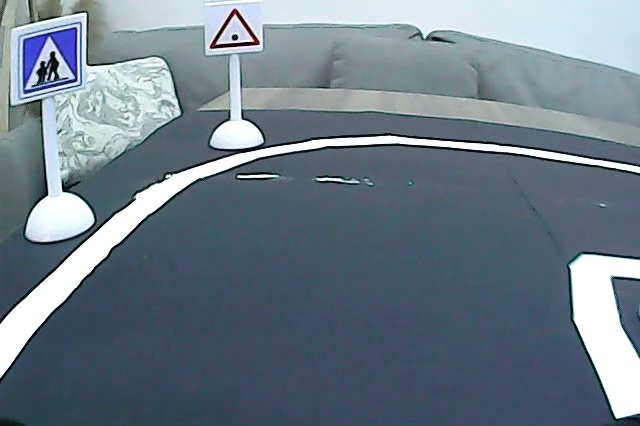green light: (207, 7, 264, 52)
school crossing: (16, 25, 83, 97)
